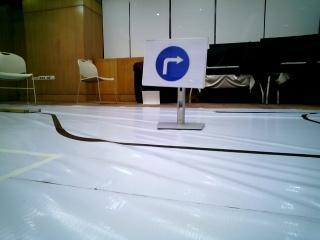right: (145, 39, 203, 80)
